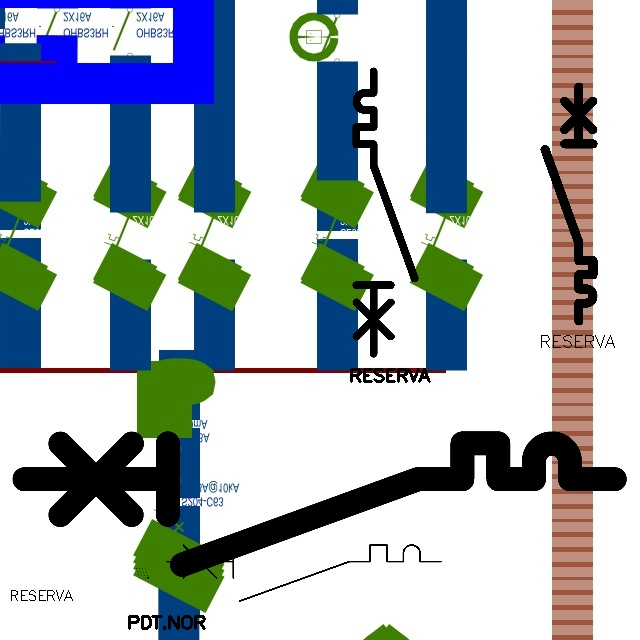interruptor_termomagnetico: (9, 428, 630, 580), (349, 64, 421, 361), (159, 538, 448, 608), (539, 81, 599, 327)
